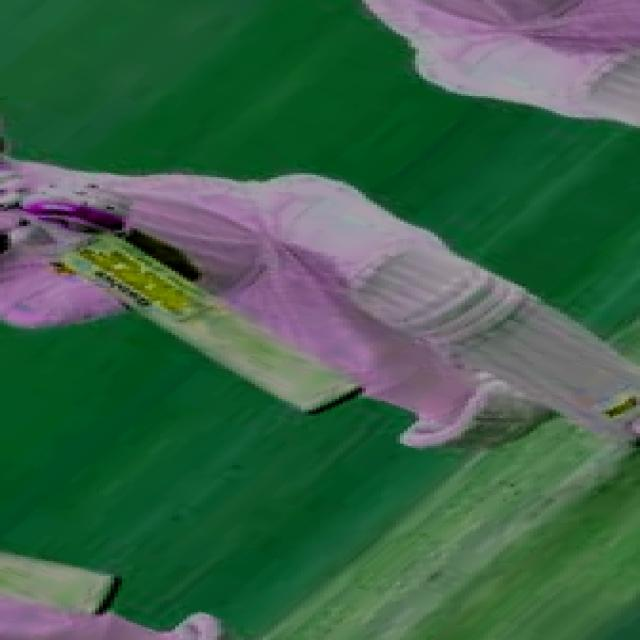toe: (269, 365, 370, 417)
